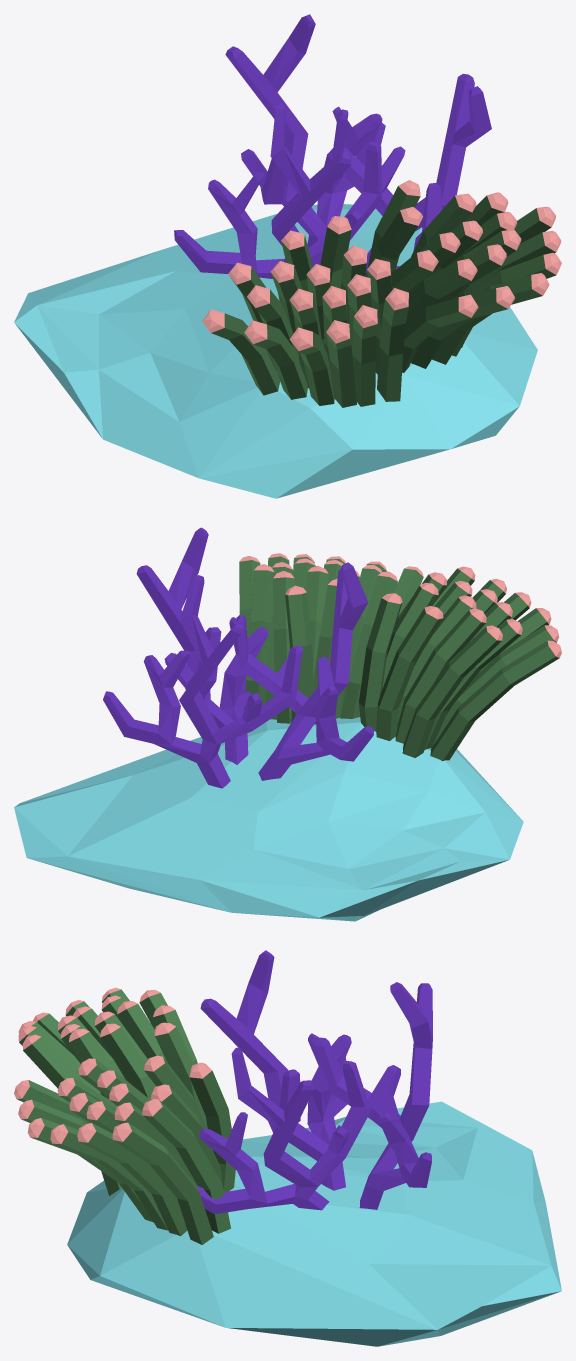
File: Coralls_008.glb
3 views of the same model, one above another, from view 1: azimuth 30°, elevation 25°; view 2: azimuth 150°, elevation 25°; view 3: azimuth 270°, elevation 25° (orthographic). The views are drawn at different scales.
Parts seen in each view (by area): view 1: Coralls_008; view 2: Coralls_008; view 3: Coralls_008.
Part boxes in pixels (<box>): Coralls_008: <box>14,14,561,498</box>; Coralls_008: <box>14,527,561,921</box>; Coralls_008: <box>14,950,561,1346</box>.
Size of the model in its own units: 2.01 by 1.47 by 2.24.
Materials: 2 (2 with a texture image).
